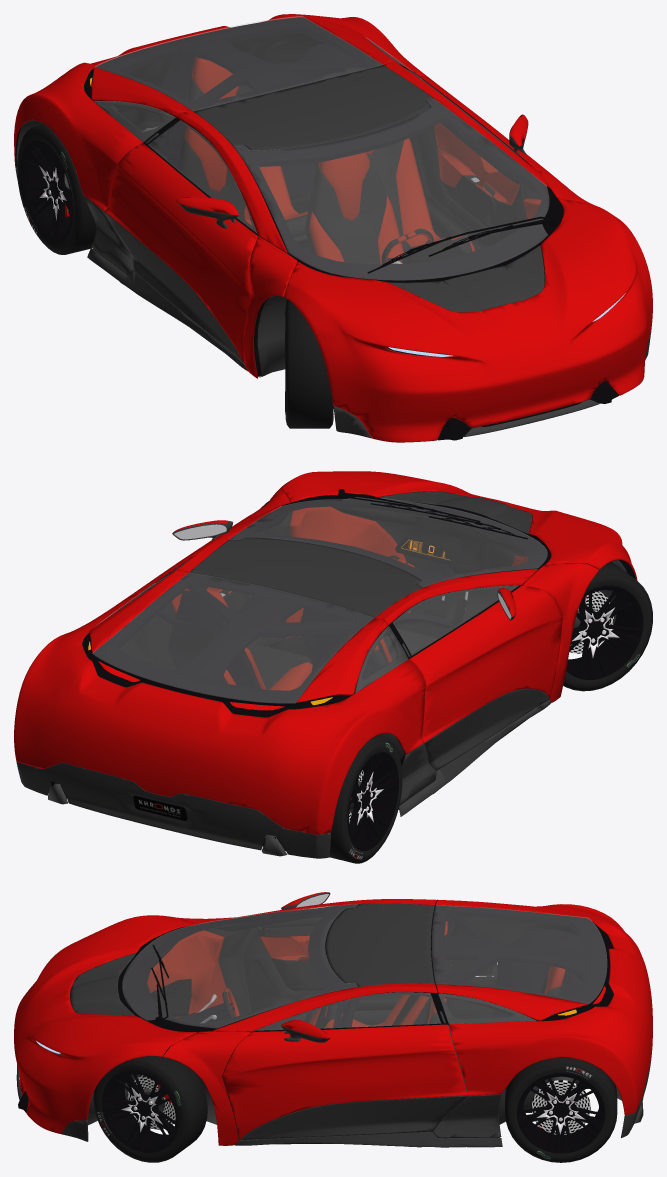
Rendered from car.glb.
3 renders of one model, top to bottom at view 1: azimuth 30°, elevation 25°; view 2: azimuth 150°, elevation 25°; view 3: azimuth 270°, elevation 25°, orthographic. The views are drawn at different scales.
Visible parts, largest first — view 1: BodyHood, BodyWindshield, BodyRearwindow, BodyDoorRColor1, BodyRearPanelsColor1, BodyRoofPanel, BodyWindshieldGasket, InteriorSeatsColor1, InteriorSeatsColor2, BodyPillars, InteriorPillar, InteriorRearHatch (+21 smaller); view 2: BodyRearPanelsColor1, BodyRearwindow, BodyWindshield, BodyDoorRColor1, BodyPanelsColor2, BodyRoofPanel, BodyHood, InteriorRearHatch, BodyPillars, InteriorPillar, InteriorDashMid, BodyWindshieldGasket (+22 smaller); view 3: BodyRearPanelsColor1, BodyWindshield, BodyDoorLColor1, BodyHood, BodyRearwindow, BodyRoofPanel, BodyPillars, BodyWindshieldGasket, BodyDoorLColor2, BodyPanelsColor2, WheelFrontL, InteriorRearHatch (+25 smaller).
Part boxes in pixels (box(x1,y1,x2,y2)): BodyHood: box(283, 198, 652, 442); BodyWindshield: box(234, 98, 549, 280); BodyRearwindow: box(95, 16, 382, 110); BodyDoorRColor1: box(104, 143, 257, 363); BodyRearPanelsColor1: box(14, 14, 428, 210); BodyRoofPanel: box(193, 65, 432, 150); BodyWindshieldGasket: box(234, 99, 563, 282); InteriorSeatsColor1: box(185, 57, 475, 264); InteriorSeatsColor2: box(180, 78, 472, 264); BodyPillars: box(176, 61, 598, 378); InteriorPillar: box(158, 37, 434, 168); InteriorRearHatch: box(94, 17, 383, 117); BodyRearPanelsColor1: box(14, 569, 425, 834); BodyRearwindow: box(92, 573, 373, 703); BodyWindshield: box(229, 497, 547, 587); BodyDoorRColor1: box(409, 585, 562, 742); BodyPanelsColor2: box(16, 700, 550, 858); BodyRoofPanel: box(189, 537, 422, 617); BodyHood: box(279, 471, 637, 580); InteriorRearHatch: box(93, 573, 386, 707); BodyPillars: box(175, 489, 599, 702); InteriorPillar: box(174, 574, 417, 682); InteriorDashMid: box(331, 502, 528, 622); BodyWindshieldGasket: box(230, 497, 550, 587); BodyRearPanelsColor1: box(436, 899, 652, 1115); BodyWindshield: box(122, 904, 357, 1028); BodyDoorLColor1: box(222, 1024, 467, 1139); BodyHood: box(14, 915, 196, 1133); BodyRearwindow: box(432, 905, 606, 1003); BodyRoofPanel: box(326, 903, 434, 986); BodyPillars: box(163, 899, 437, 1145); BodyWindshieldGasket: box(118, 905, 357, 1032); BodyDoorLColor2: box(240, 1096, 467, 1140); BodyPanelsColor2: box(16, 1050, 652, 1147); WheelFrontL: box(93, 1054, 207, 1162); InteriorRearHatch: box(431, 905, 606, 1020).
Bounding box in the file's own units: 2.54 × 1.15 × 4.36.
23 materials, 6 textured.
